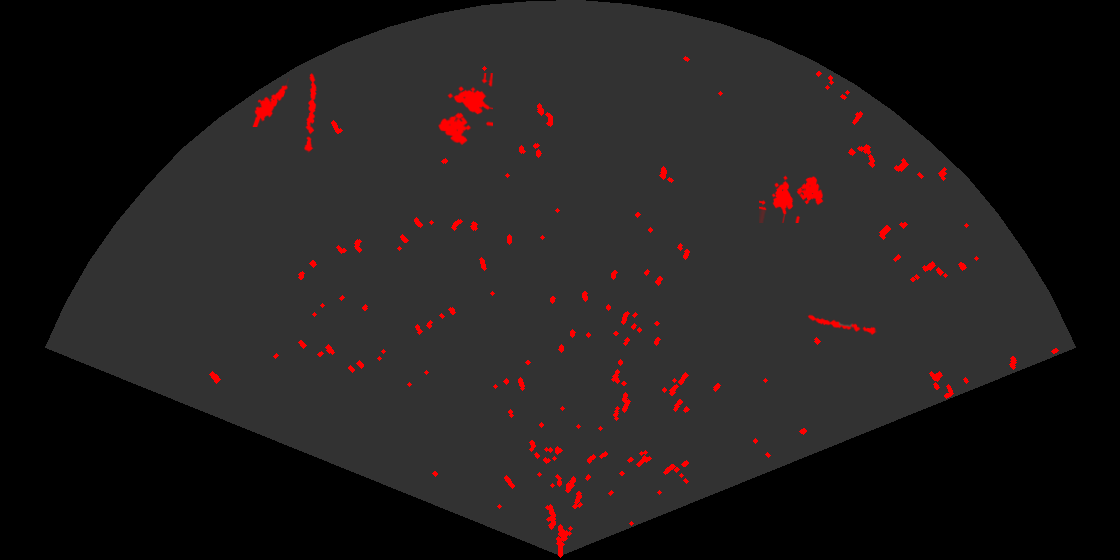cage: (437, 73, 493, 147), (759, 174, 825, 223)
chain: (805, 313, 877, 337), (303, 71, 319, 153)
frogman: (251, 77, 289, 127)
